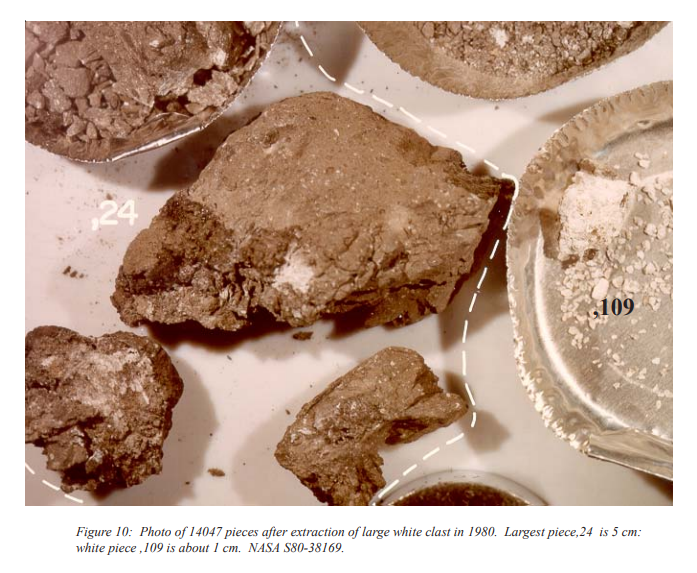Breccia: (109, 134, 470, 322), (31, 0, 270, 113), (31, 311, 191, 476), (284, 372, 392, 488), (466, 11, 549, 113)
